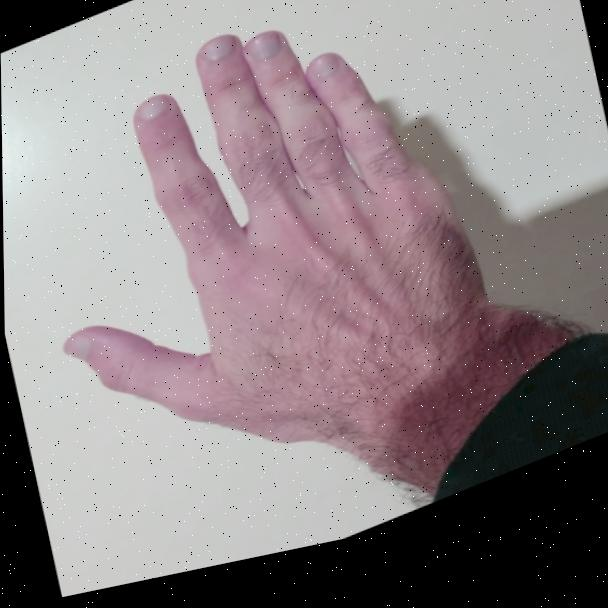five: (13, 0, 513, 530)
